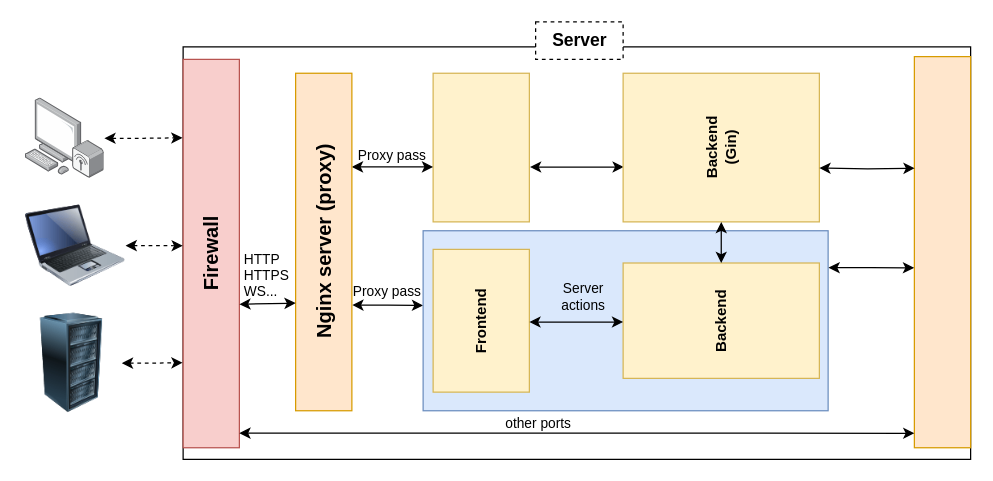
Some shapes in this 993 by 481 pixel diagram are drawn without their labels. The shapes that lost their labels are listed below. From the top down, each one's box as (x1, y1, x2, y2) in pixels, then its label:
(432, 72, 529, 222): API authentication
(913, 55, 971, 448): Services (DB, FS, mails...)
(422, 230, 828, 411): NextJS
